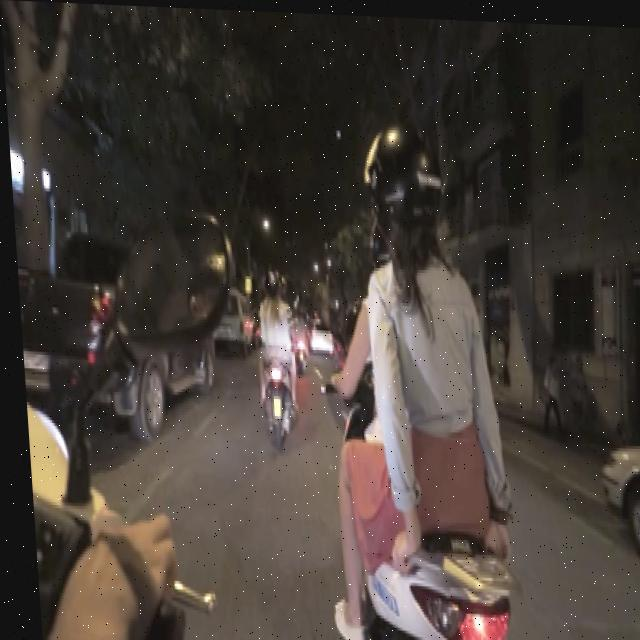Helmet: (359, 120, 438, 258), (260, 260, 278, 292)
